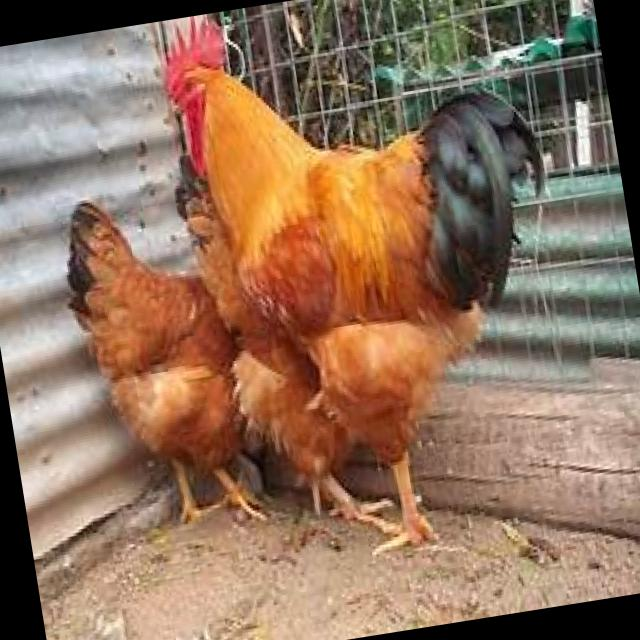animal: (153, 0, 590, 560)
